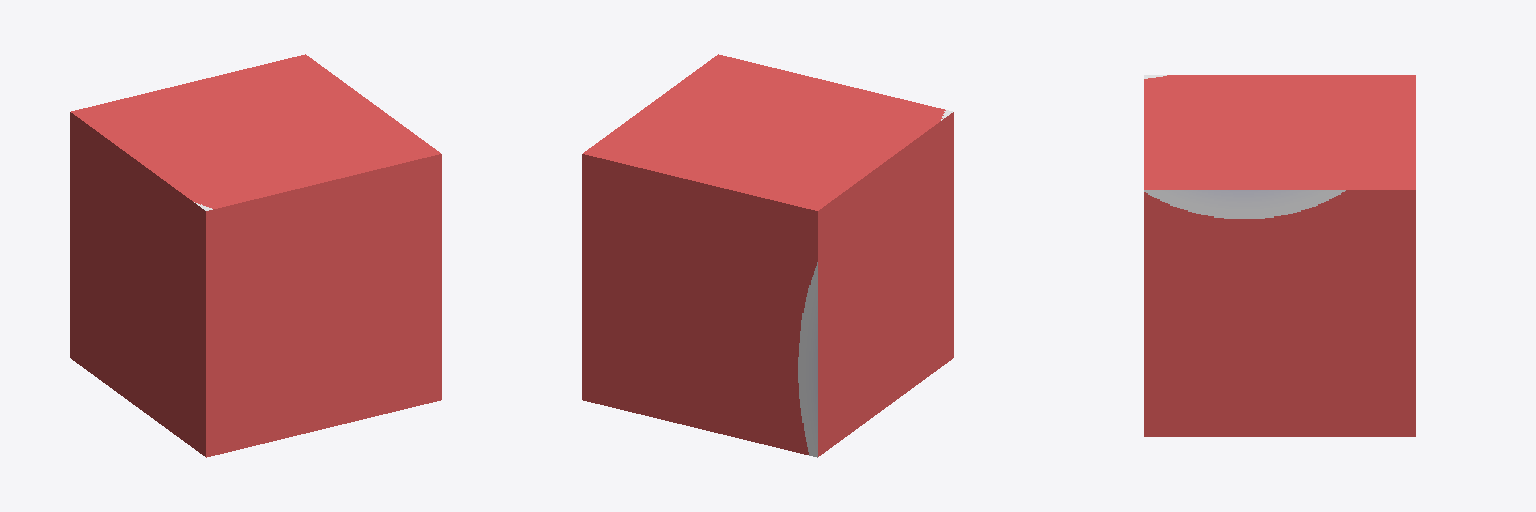
3 views of the same model, side by side, from view 1: azimuth 30°, elevation 25°; view 2: azimuth 150°, elevation 25°; view 3: azimuth 270°, elevation 25° (orthographic).
Parts seen in each view (by area): view 1: 立方体.002; view 2: 立方体.002; view 3: 立方体.002.
Boxes of the visible parts, x1=… form: 立方体.002: x1=70, y1=54, x2=441, y2=457; 立方体.002: x1=582, y1=54, x2=953, y2=457; 立方体.002: x1=1144, y1=75, x2=1415, y2=436.
Bounding box in the file's own units: 1.46 × 1.46 × 1.46.
Materials: 1 (1 with a texture image).